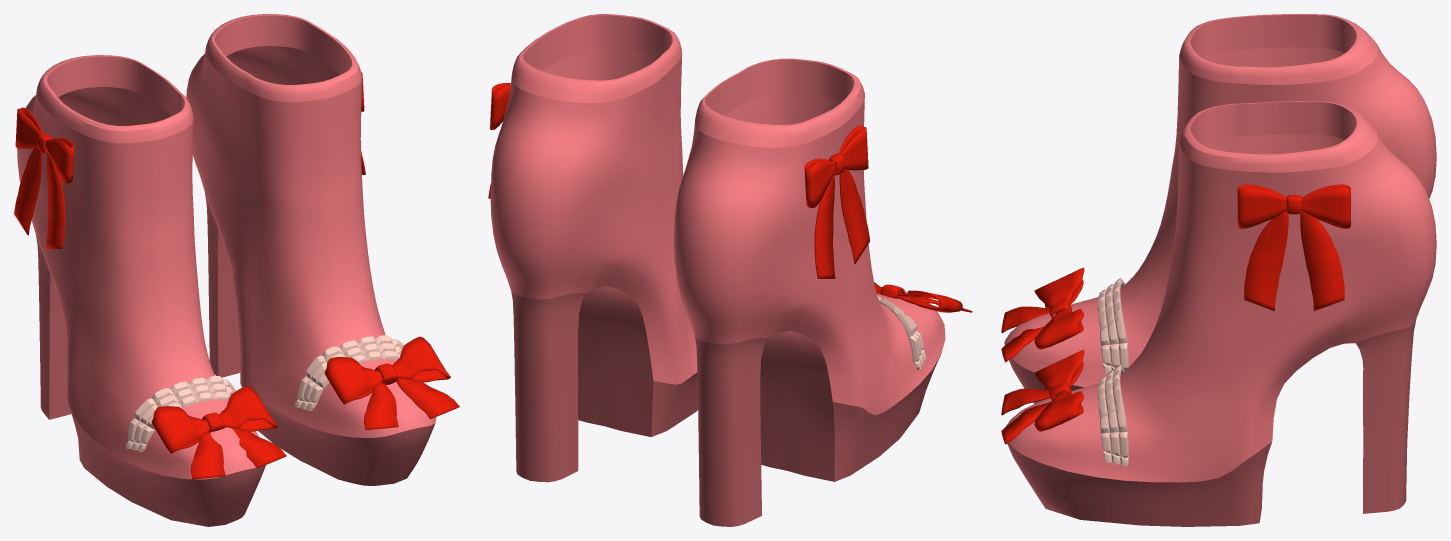
3 views of the same model, side by side, from view 1: azimuth 30°, elevation 25°; view 2: azimuth 150°, elevation 25°; view 3: azimuth 270°, elevation 25° (orthographic). The views are drawn at different scales.
Visible parts, largest first — view 1: s4studio_mesh_1_geom.006, s4studio_mesh_1_geom.024, Tail.002, Tail.003, Tail.004, s4studio_mesh_1_geom.014, s4studio_mesh_1_geom.007; view 2: s4studio_mesh_1_geom.024, s4studio_mesh_1_geom.006, Tail.004, Tail.003, s4studio_mesh_1_geom.014, Tail.001; view 3: s4studio_mesh_1_geom.006, s4studio_mesh_1_geom.024, Tail.001, Tail.002, Tail.003, s4studio_mesh_1_geom.007, s4studio_mesh_1_geom.014.
Part boxes in pixels (<box>): s4studio_mesh_1_geom.006: <box>186,14,436,485</box>; s4studio_mesh_1_geom.024: <box>17,55,265,526</box>; Tail.002: <box>324,336,459,430</box>; Tail.003: <box>151,386,286,479</box>; Tail.004: <box>14,107,74,248</box>; s4studio_mesh_1_geom.014: <box>125,375,235,452</box>; s4studio_mesh_1_geom.007: <box>294,335,403,410</box>; s4studio_mesh_1_geom.024: <box>674,58,945,526</box>; s4studio_mesh_1_geom.006: <box>490,14,698,482</box>; Tail.004: <box>804,125,869,278</box>; Tail.003: <box>874,282,972,312</box>; s4studio_mesh_1_geom.014: <box>877,295,925,369</box>; Tail.001: <box>488,83,510,198</box>; s4studio_mesh_1_geom.006: <box>1006,101,1436,526</box>; s4studio_mesh_1_geom.024: <box>1004,14,1436,426</box>; Tail.001: <box>1237,184,1350,311</box>; Tail.002: <box>1001,349,1084,444</box>; Tail.003: <box>1001,267,1084,362</box>; s4studio_mesh_1_geom.007: <box>1097,364,1128,466</box>; s4studio_mesh_1_geom.014: <box>1097,278,1128,374</box>.
Size of the model in its own units: 154 by 171 by 179.
